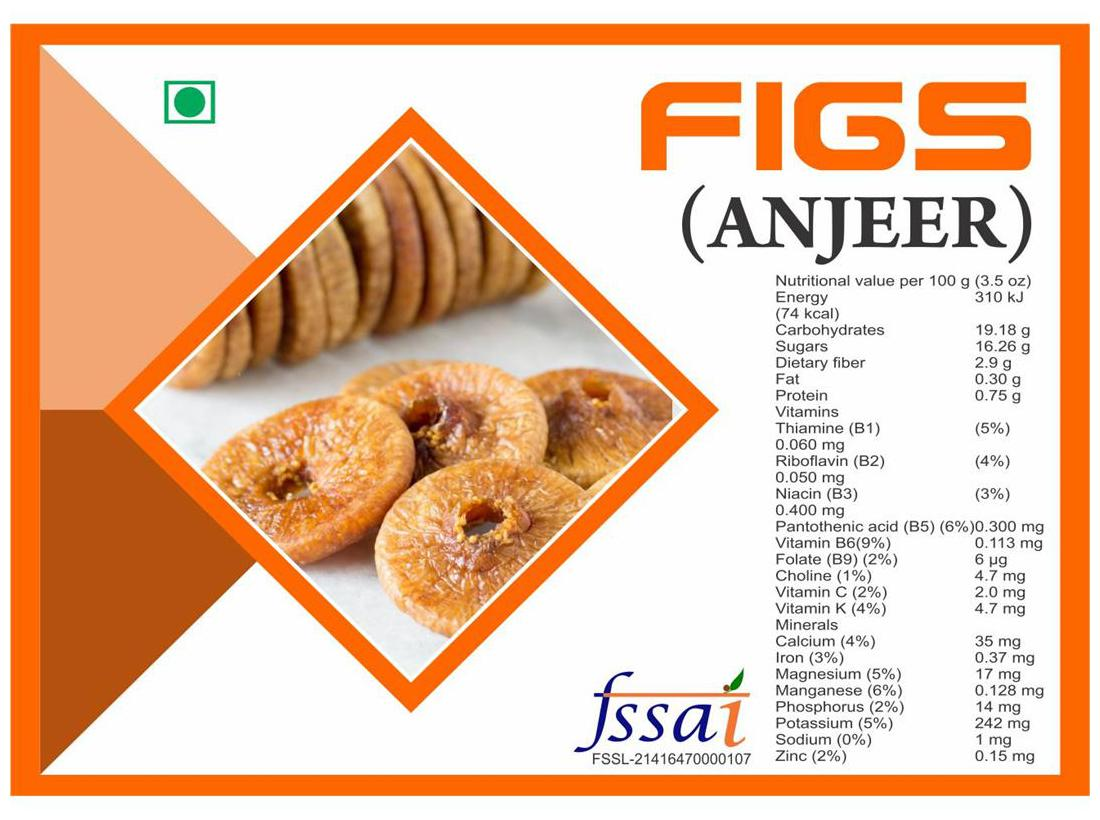fssai: (575, 671, 748, 749)
